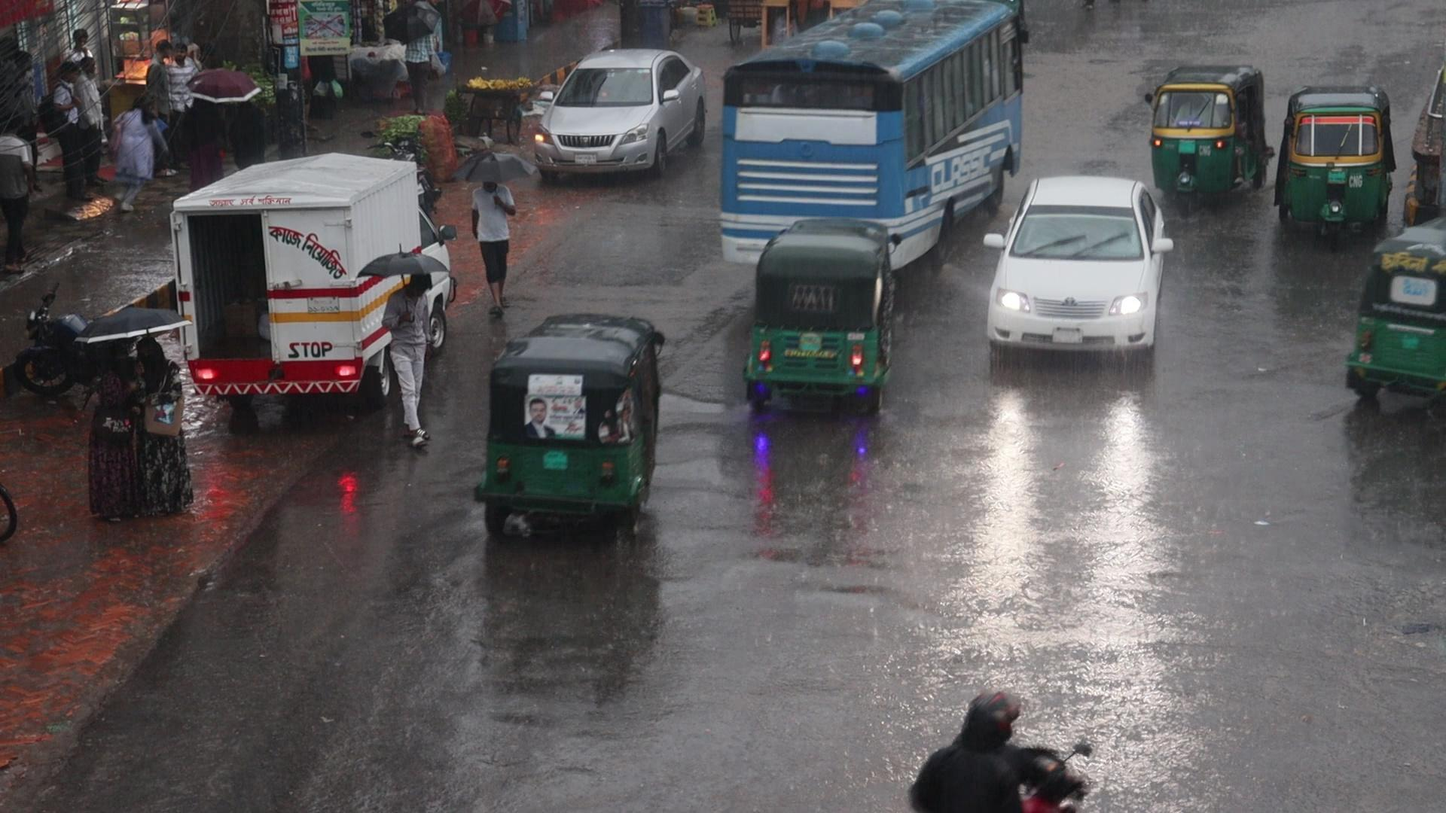Bus: (720, 0, 1029, 241)
Car: (983, 175, 1175, 363), (533, 48, 707, 178)
